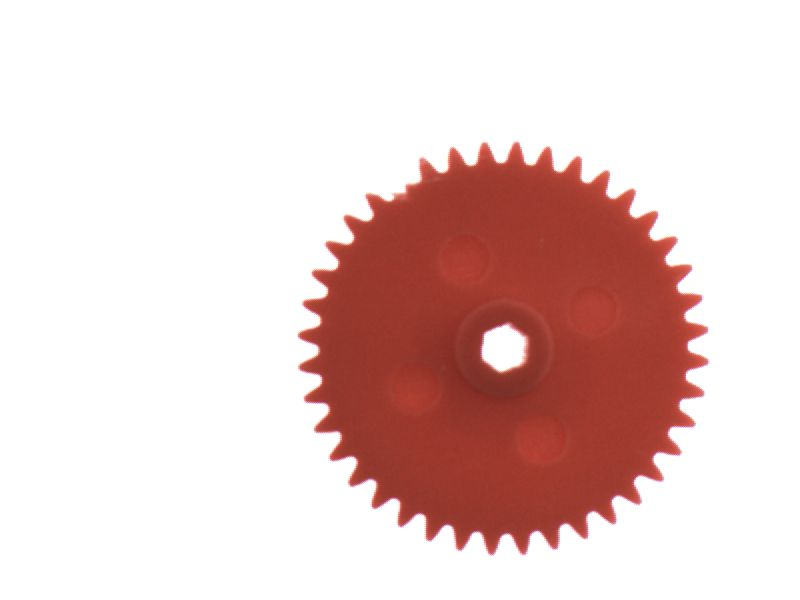defect_lack: (376, 166, 432, 205)
